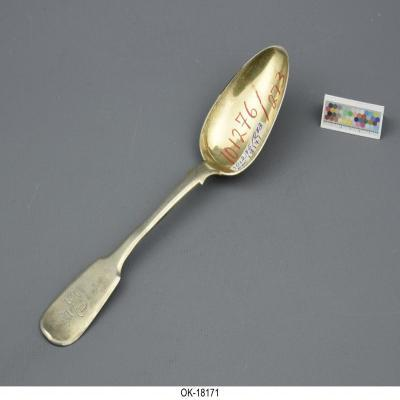dpi: (39, 46, 290, 349)
